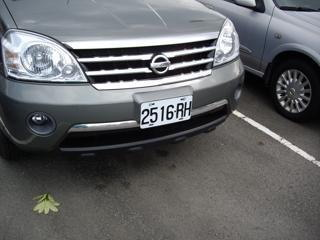plate: (138, 99, 193, 125)
